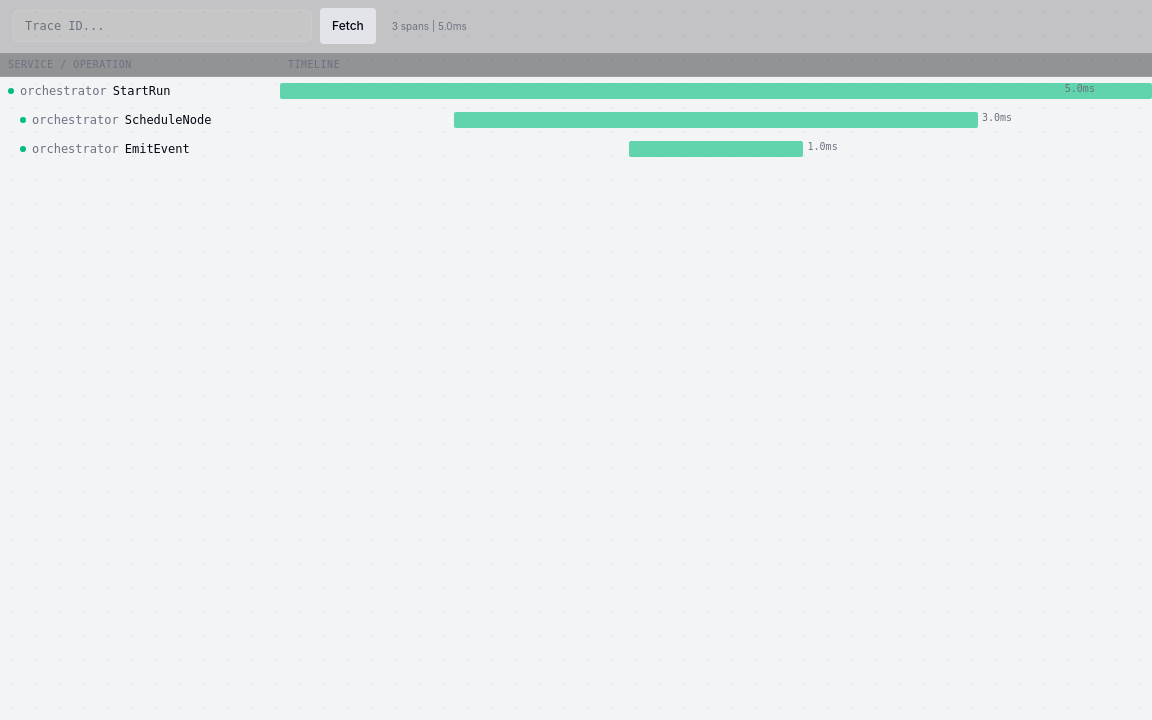
it: TracePanel › shows span detail pane when a span is clicked
Expected: the text "StartRun" is shown, [113,83,170,99]
Click the button "orchestrator StartRun 5.0ms": x=576, y=92 [0,77,1151,106]
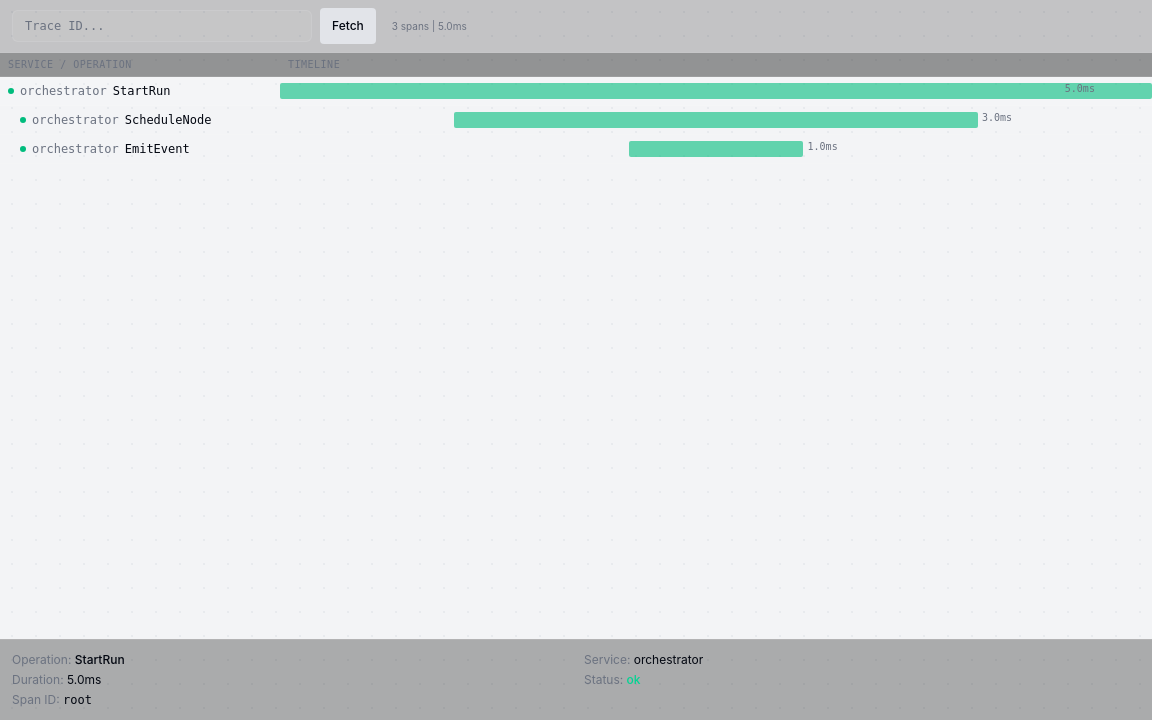
Expected: the text "Operation:" is shown, [12,652,71,667]
Expected: the text "Service:" is shown, [584,652,630,667]
Expected: the text "Duration:" is shown, [12,672,64,687]
